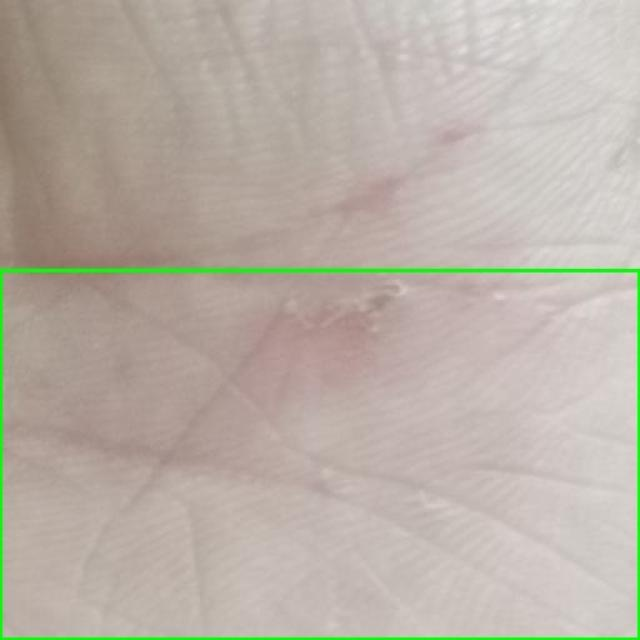Scabies: (0, 270, 639, 639)
